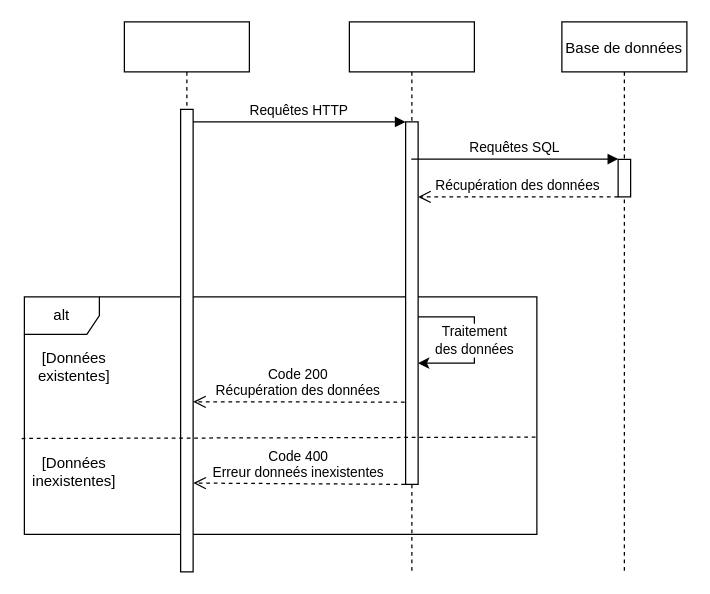
Image size: 710x594. Some labels were removed from this diagram. The shapes that lost their labels are listed below. From the top down, each one's box as (x1, y1, x2, y2) in pixels, then its label:
(123, 21, 249, 572): Client web
(348, 21, 474, 572): Serveur-api
